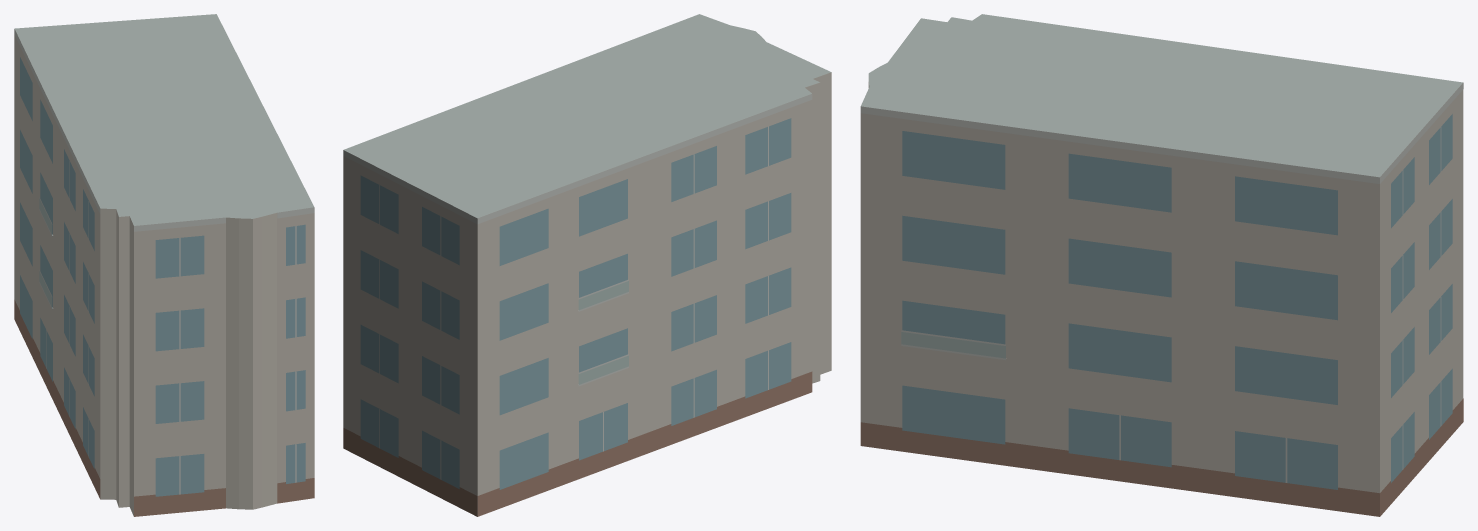
The model's file is survey-upis-32903923.glb.
3 views of the same model, side by side, from view 1: azimuth 30°, elevation 25°; view 2: azimuth 150°, elevation 25°; view 3: azimuth 270°, elevation 25° (orthographic). The views are drawn at different scales.
Visible parts, largest first — view 1: survey-upis-32903923.tmp; view 2: survey-upis-32903923.tmp; view 3: survey-upis-32903923.tmp.
Part boxes in pixels (x1,y1,x2,y2): survey-upis-32903923.tmp: (14,14,314,516); survey-upis-32903923.tmp: (343,14,831,516); survey-upis-32903923.tmp: (860,14,1463,516).
Bounding box in the file's own units: 12.59 × 12.2 × 19.64.
